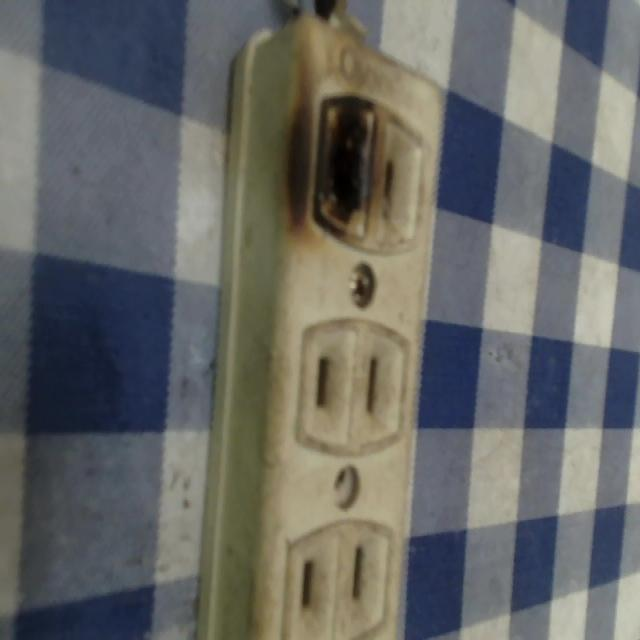-: (304, 84, 379, 251)
